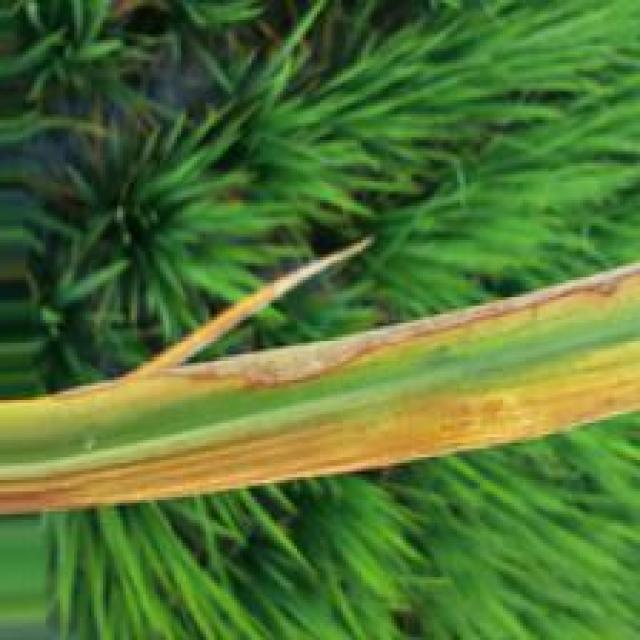Bacterial_Leaf_Blight: (3, 351, 640, 515), (75, 260, 640, 402)
